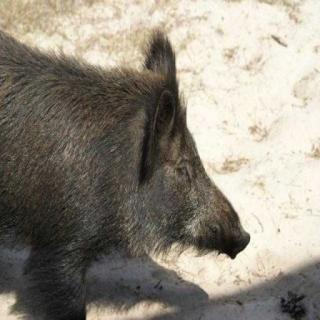Pig: (9, 17, 317, 320)
